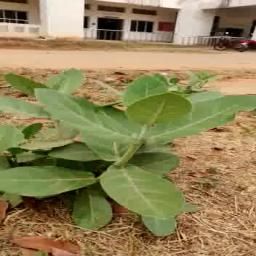CALOTROPIS: (0, 75, 252, 236)
